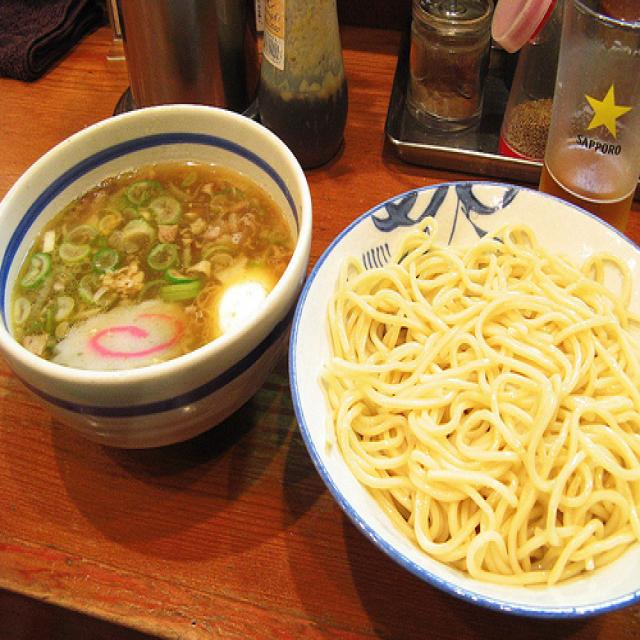面条主食: (13, 145, 632, 591)
